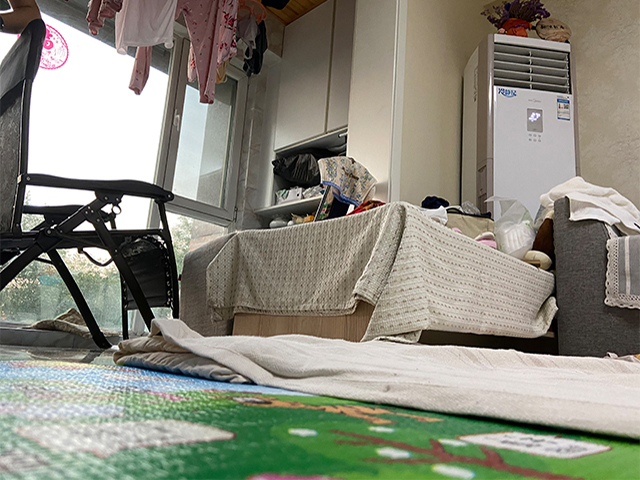sofa: (204, 200, 558, 344), (552, 197, 640, 359)
stool: (1, 20, 181, 348)
